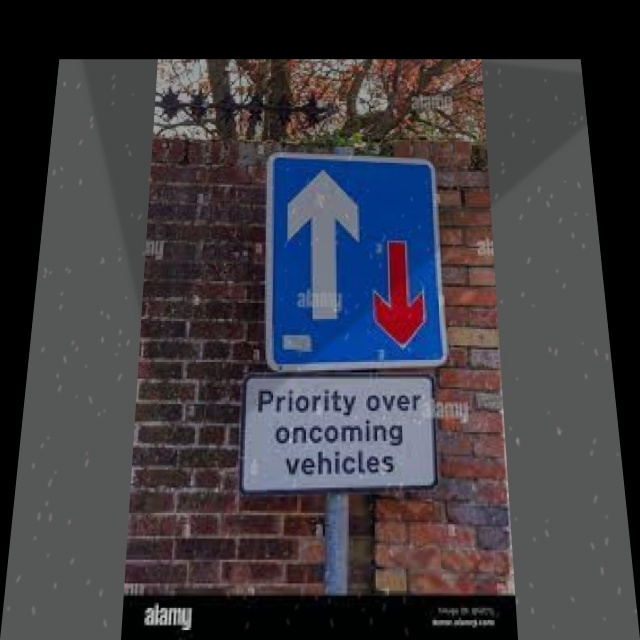Priority_for_Oncoming_Traffic: (272, 159, 444, 362)
